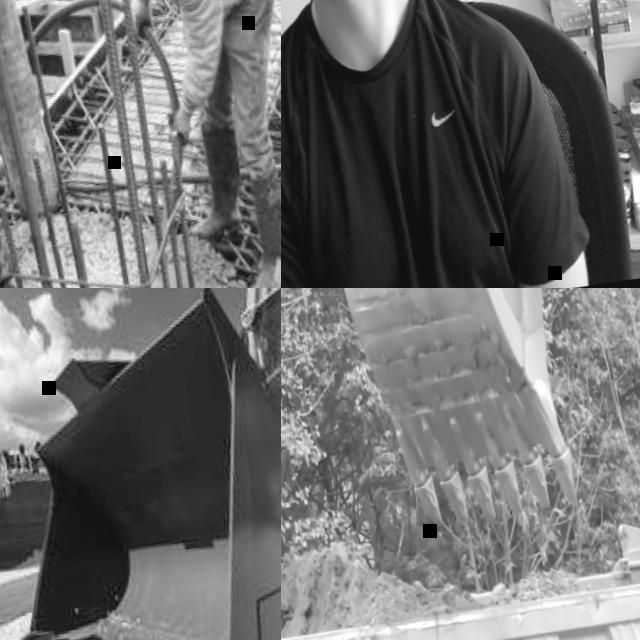NO-Safety Vest: (281, 0, 530, 288)
Person: (281, 0, 594, 288), (83, 0, 281, 288), (0, 0, 96, 288)
machinery: (0, 288, 281, 640), (337, 288, 603, 539), (281, 457, 640, 640)
